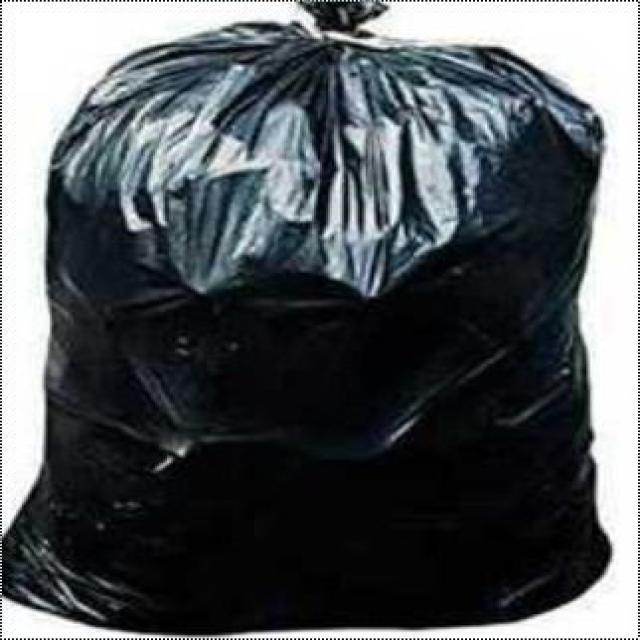Trashbag: (31, 18, 592, 615)
